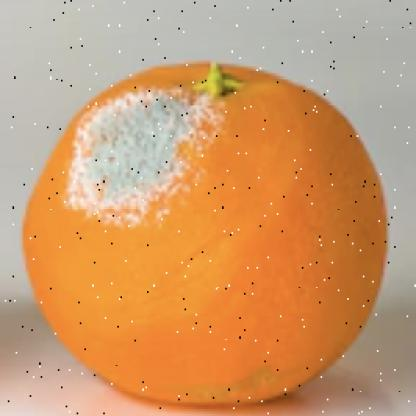rotten: (25, 61, 387, 410)
